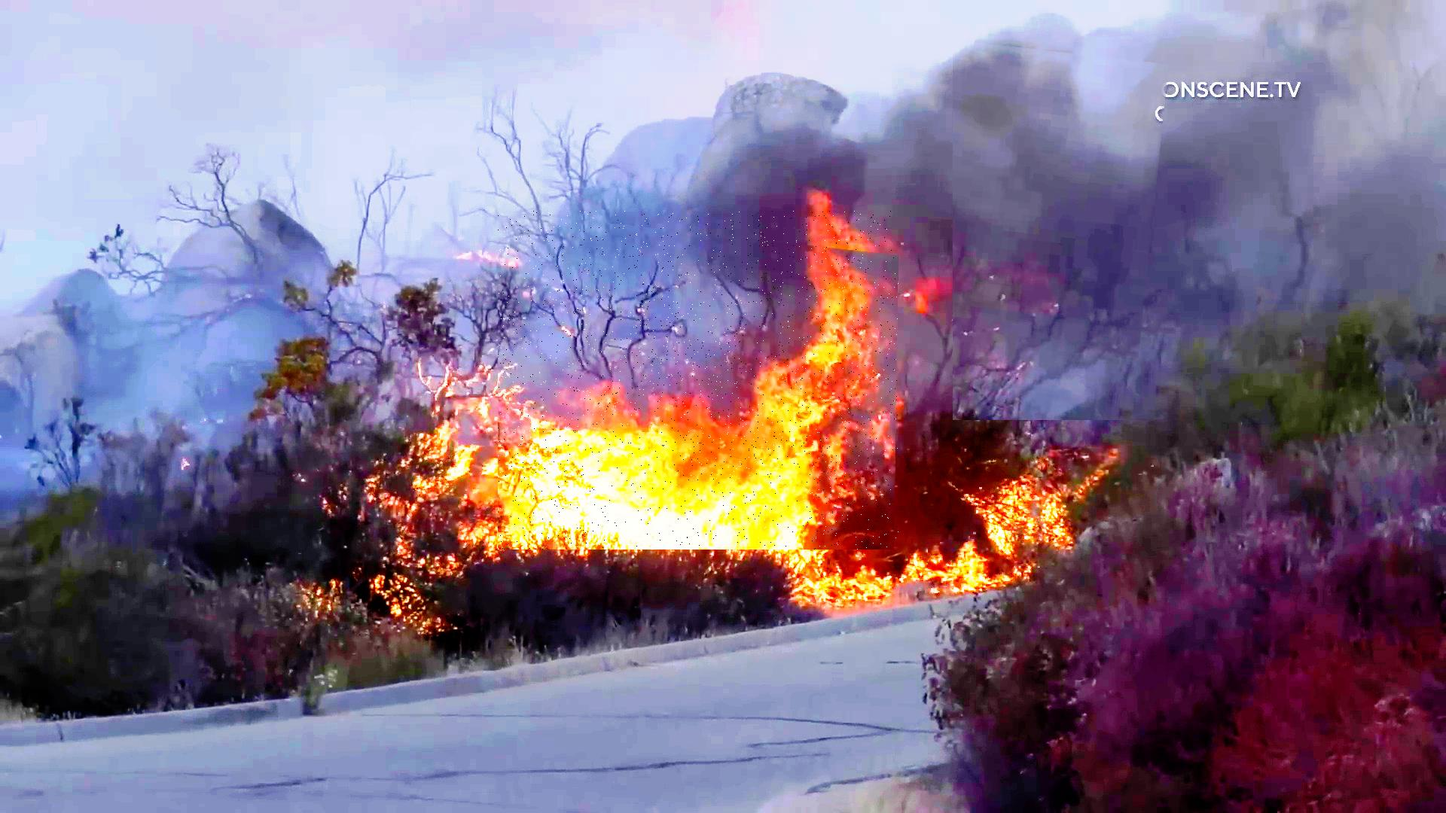fire: (498, 211, 899, 550)
smoke: (953, 40, 1171, 420)
